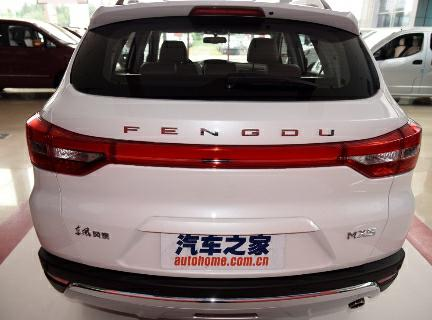东风风度-MX5: (21, 2, 428, 315)
